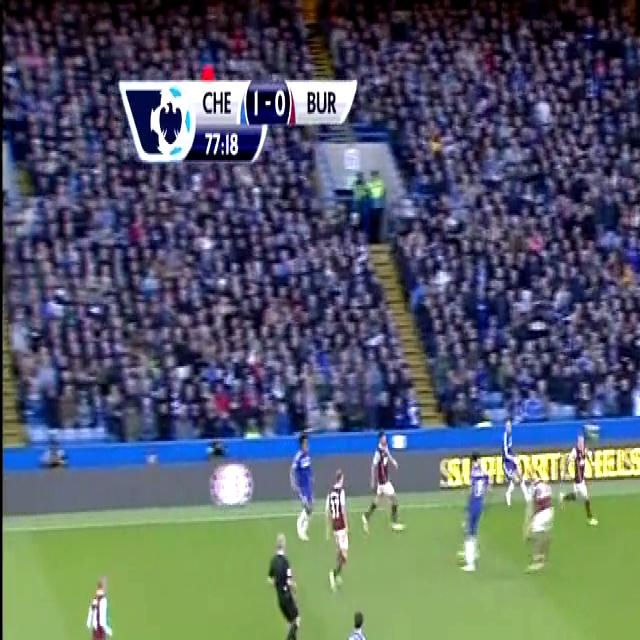referee: (263, 530, 308, 640)
soccer-player: (520, 465, 566, 587), (366, 418, 411, 541), (559, 413, 603, 538), (451, 454, 493, 584), (320, 468, 352, 602), (63, 567, 118, 640), (490, 404, 526, 508), (288, 428, 317, 546), (314, 606, 381, 640)
